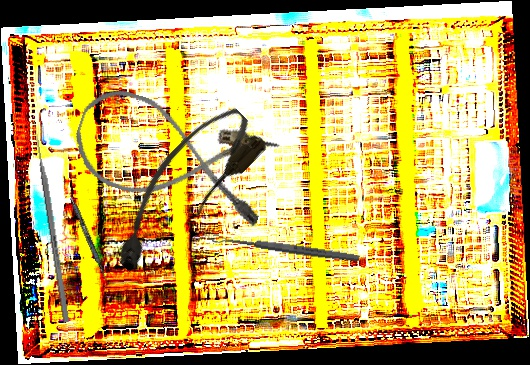Cannula: (64, 80, 283, 233), (91, 97, 272, 281)
Pusher: (31, 122, 71, 323)
Spatula Surgical: (58, 176, 113, 286)
Surgical Spoon: (212, 232, 360, 264)
